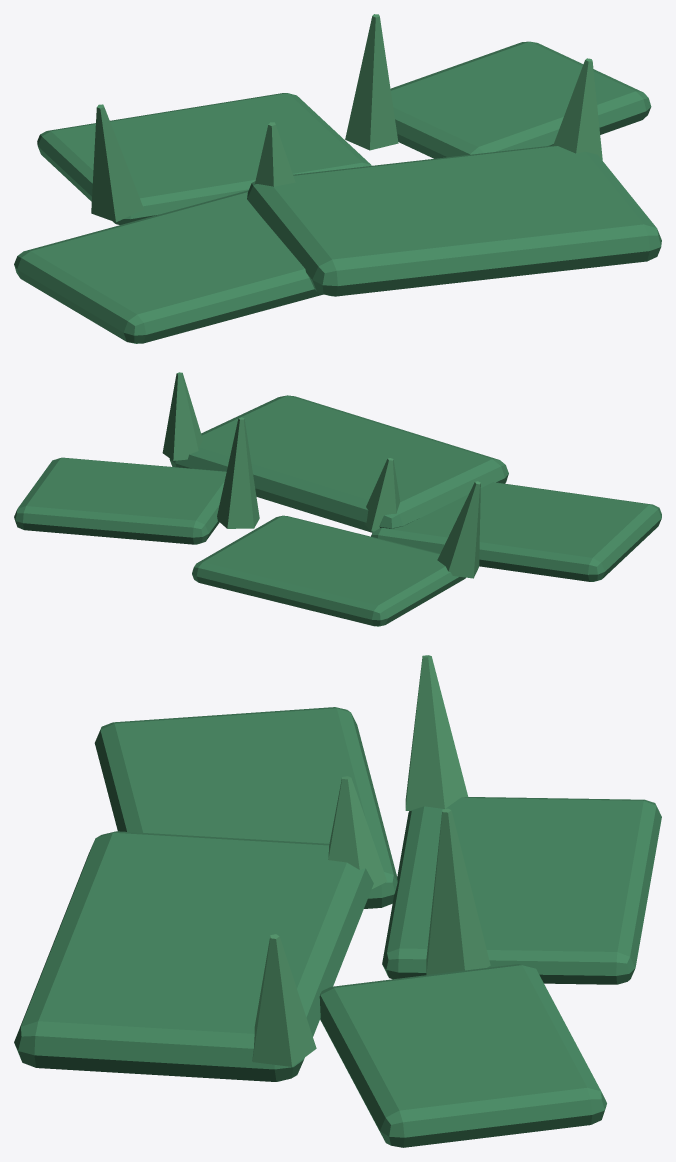
Rendered from Moss-Patch.glb.
3 views of the same model, one above another, from view 1: azimuth 30°, elevation 25°; view 2: azimuth 150°, elevation 25°; view 3: azimuth 270°, elevation 25° (orthographic). The views are drawn at different scales.
Visible parts, largest first — view 1: Moss_Patch_1, Moss_Patch_0, Moss_Patch_3, Moss_Patch_2, Moss_Sprout_2, Moss_Sprout_0, Moss_Sprout_3, Moss_Sprout_1; view 2: Moss_Patch_1, Moss_Patch_3, Moss_Patch_0, Moss_Patch_2, Moss_Sprout_2, Moss_Sprout_0, Moss_Sprout_3, Moss_Sprout_1; view 3: Moss_Patch_1, Moss_Patch_3, Moss_Patch_2, Moss_Patch_0, Moss_Sprout_2, Moss_Sprout_0, Moss_Sprout_3, Moss_Sprout_1.
Part boxes in pixels (box(x1,y1,x2,y2)): Moss_Patch_1: box(247, 145, 661, 296); Moss_Patch_0: box(14, 190, 323, 343); Moss_Patch_3: box(37, 93, 371, 224); Moss_Patch_2: box(390, 41, 651, 158); Moss_Sprout_2: box(345, 14, 398, 150); Moss_Sprout_0: box(91, 104, 143, 222); Moss_Sprout_3: box(553, 58, 602, 160); Moss_Sprout_1: box(255, 122, 295, 186); Moss_Patch_1: box(169, 395, 508, 532); Moss_Patch_3: box(192, 515, 465, 626); Moss_Patch_0: box(371, 482, 661, 581); Moss_Patch_2: box(14, 457, 226, 544); Moss_Sprout_2: box(217, 417, 259, 528); Moss_Sprout_0: box(437, 481, 480, 578); Moss_Sprout_3: box(162, 372, 202, 460); Moss_Sprout_1: box(364, 458, 400, 531); Moss_Patch_1: box(14, 831, 373, 1081); Moss_Patch_3: box(382, 797, 661, 984); Moss_Patch_2: box(319, 964, 606, 1147); Moss_Patch_0: box(94, 707, 397, 908); Moss_Sprout_2: box(426, 808, 490, 975); Moss_Sprout_0: box(405, 655, 468, 810); Moss_Sprout_3: box(252, 934, 316, 1066); Moss_Sprout_1: box(328, 776, 387, 888).
Bounding box in the file's own units: 1.88 × 0.4164 × 1.27.
